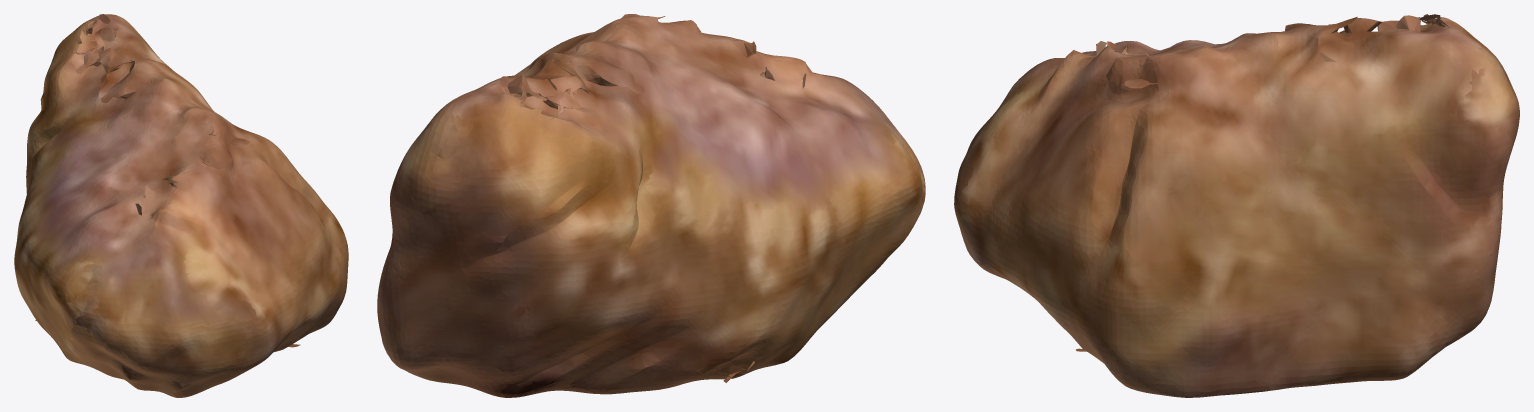
Rendered from model_New Qlone.obj.
The picture shows the model from 3 angles, left to right: view 1: azimuth 30°, elevation 25°; view 2: azimuth 150°, elevation 25°; view 3: azimuth 270°, elevation 25°; orthographic projection. The views are drawn at different scales.
Bounding box in the file's own units: 34.63 × 27.3 × 44.2.
1 material, 1 textured.
